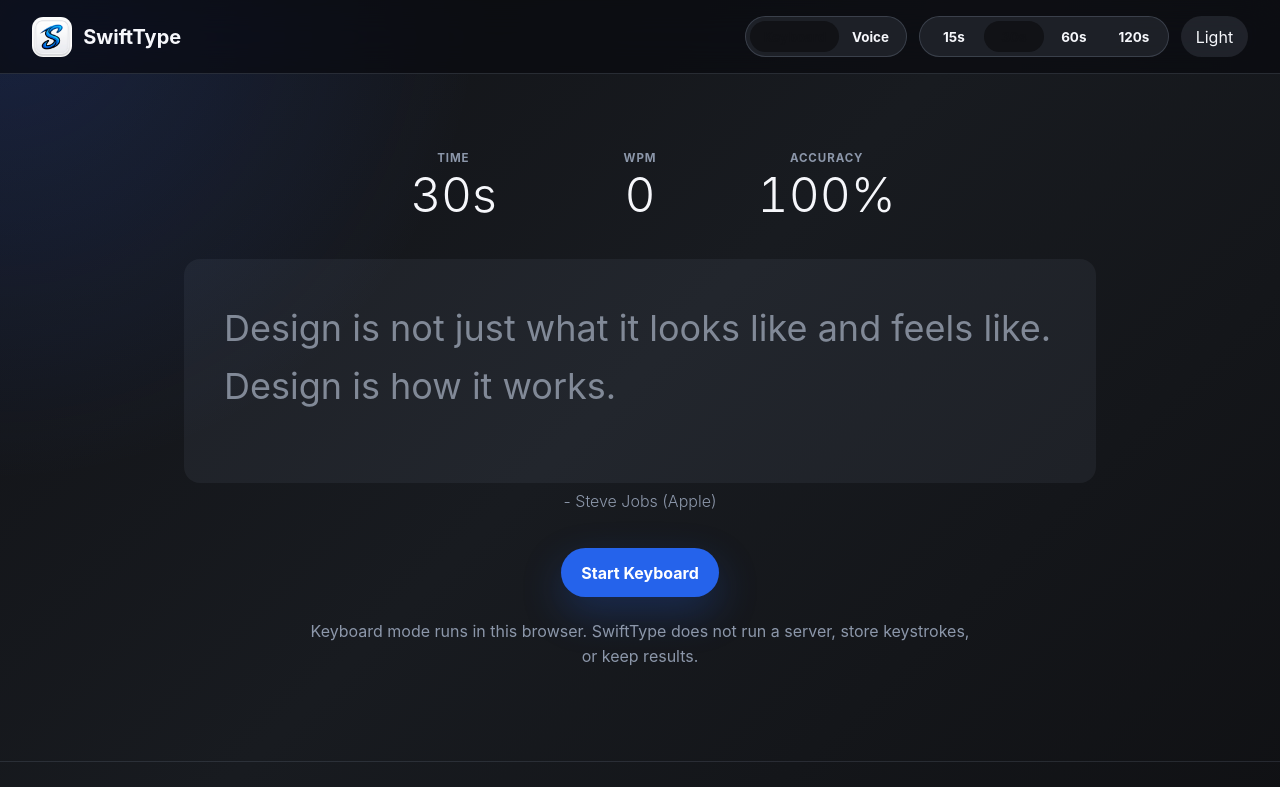
App › returns to idle when microphone permission is denied
This screenshot has width=1280, height=787.
Step 1. Click the button "Voice" → (870, 37), box [839,21,902,52]
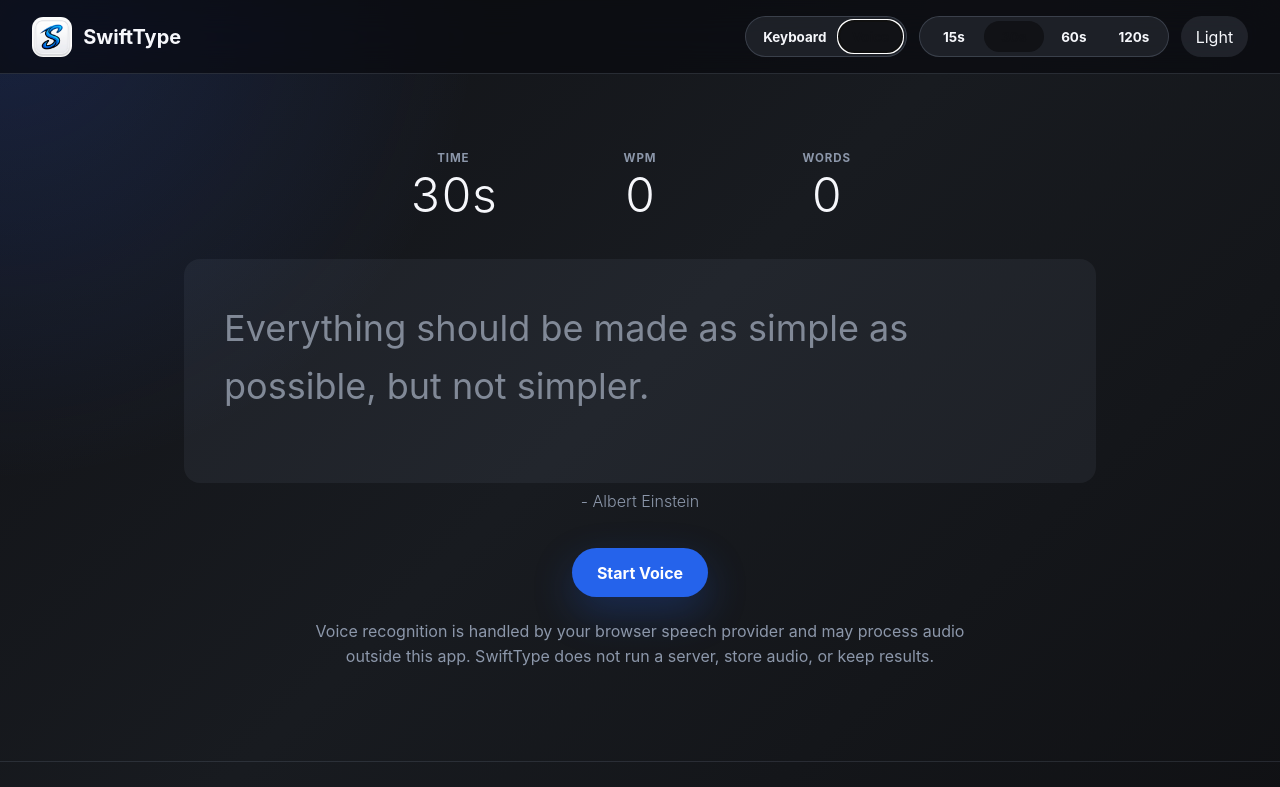
Step 2. Click the button "Start Voice" → (640, 573), box [572,548,708,597]
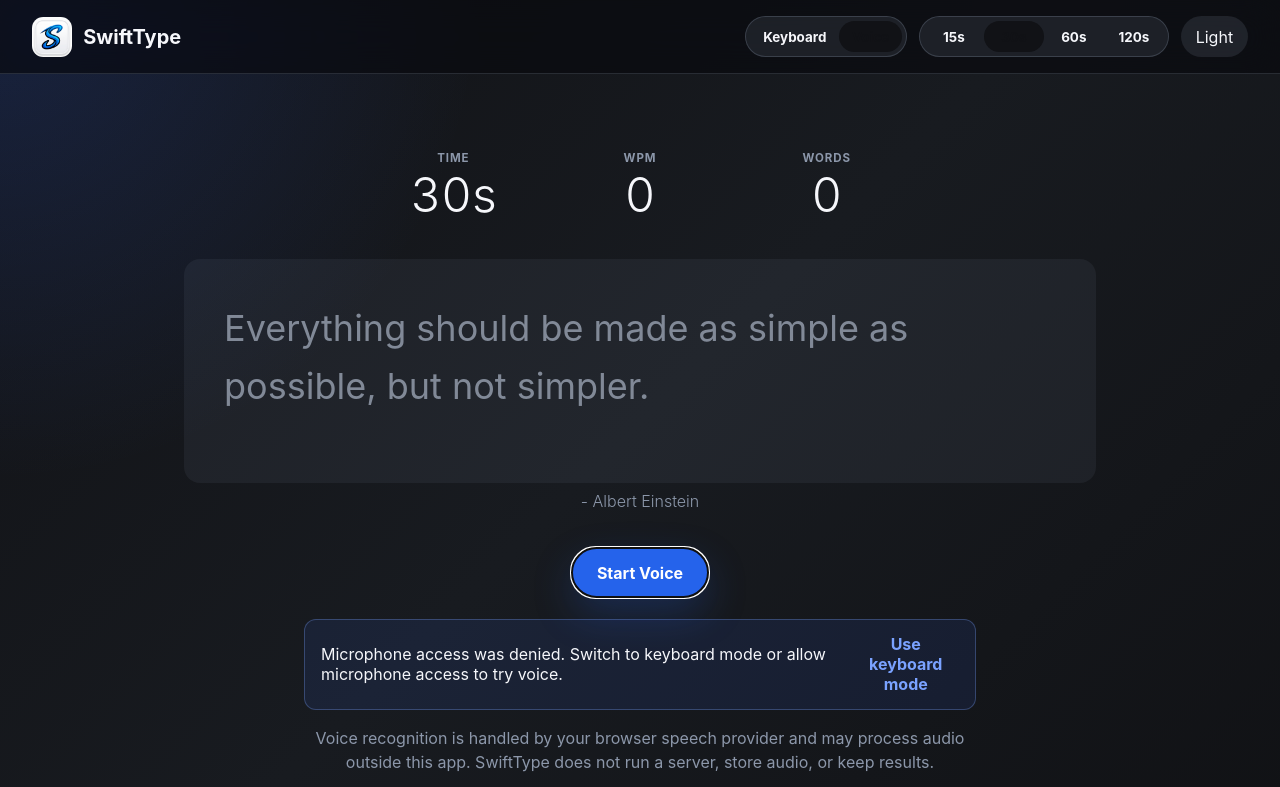
expect the button "Start Voice" is shown: met, box [572,548,708,597]
expect the text "Microphone access was denied" is shown: met, box [321,644,826,684]
